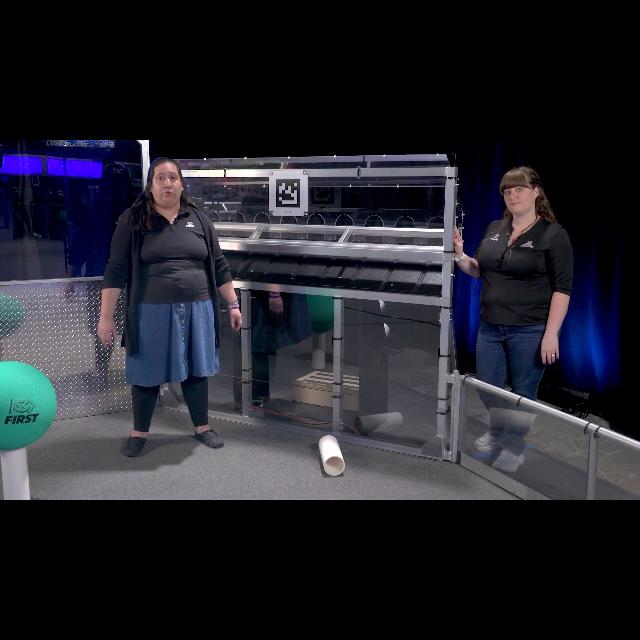ALGAE: (0, 360, 56, 450)
CORAL: (1, 446, 32, 499), (318, 436, 344, 476)
